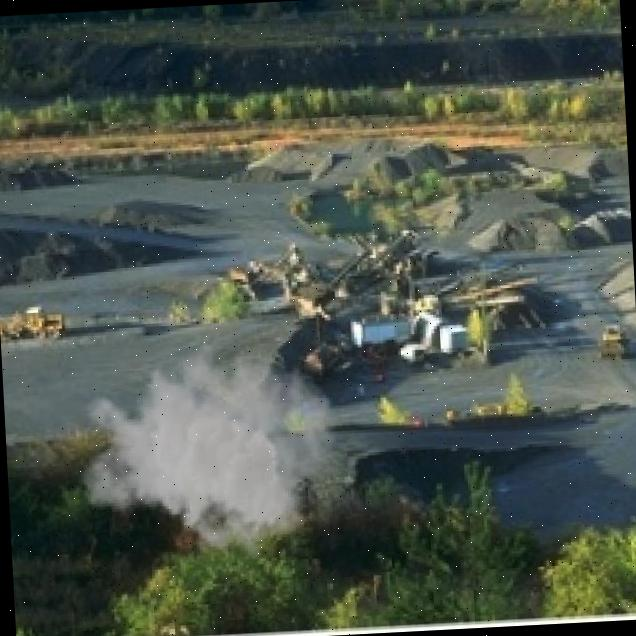smoke: (71, 320, 343, 568)
